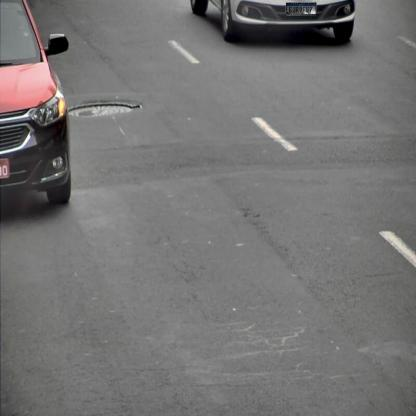PlacaM: (286, 2, 316, 14)
